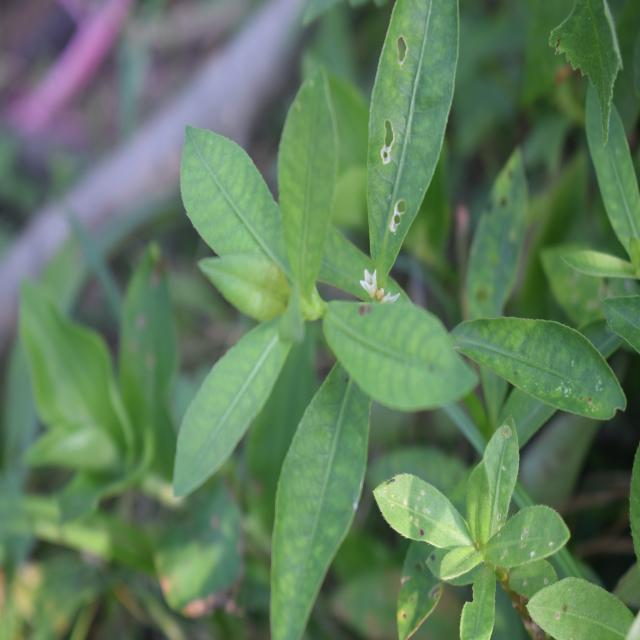Alligatorweed: (149, 12, 530, 524), (377, 423, 579, 624)
